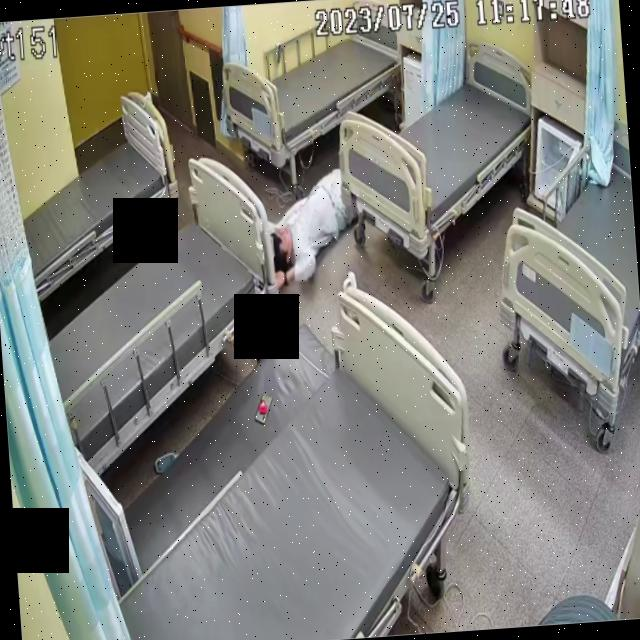bed: (97, 289, 474, 640), (32, 158, 284, 467), (491, 119, 640, 421), (331, 46, 538, 241), (12, 88, 184, 296), (223, 11, 406, 168)
fall: (263, 166, 350, 286)
patient: (264, 160, 350, 284)
